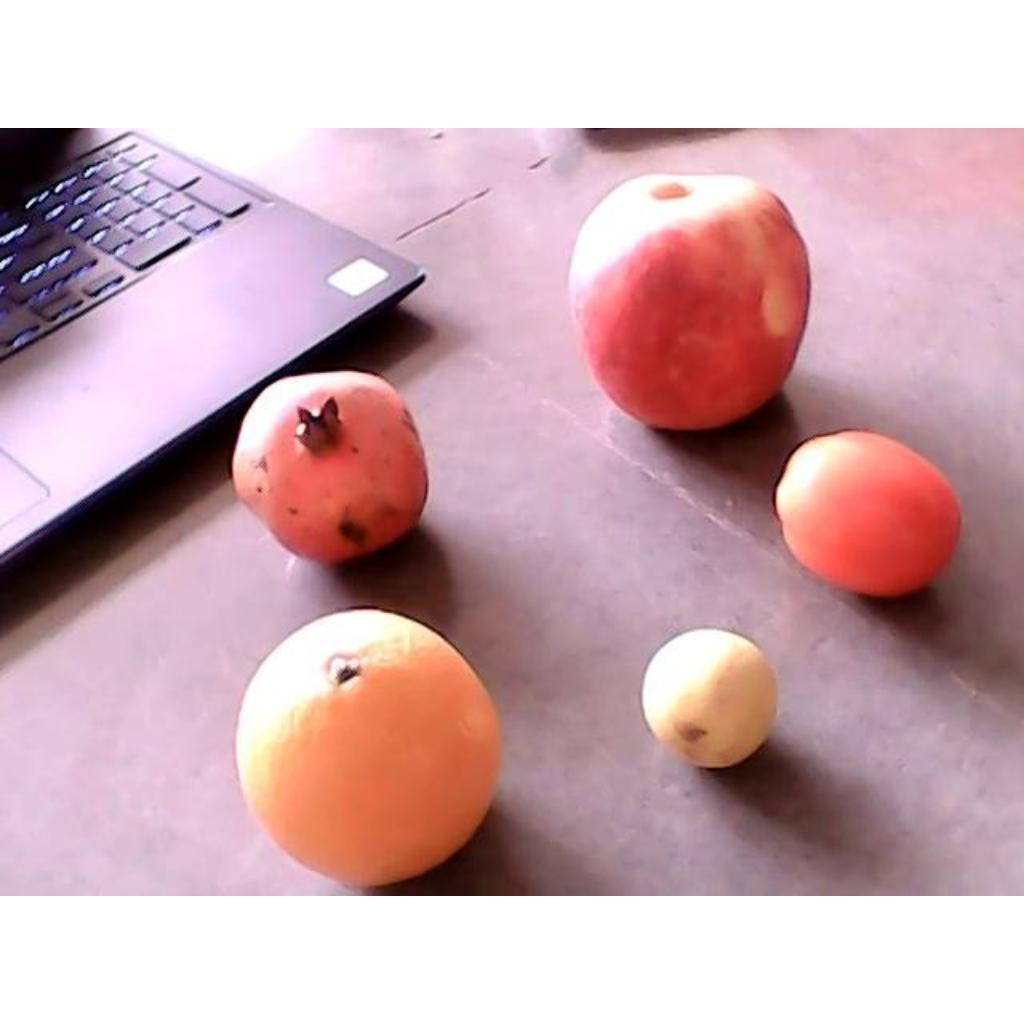apple: (568, 175, 812, 433)
lemon: (643, 628, 777, 766)
orange: (234, 610, 502, 887)
pomegranate: (233, 368, 427, 561)
tomato: (776, 426, 965, 598)
